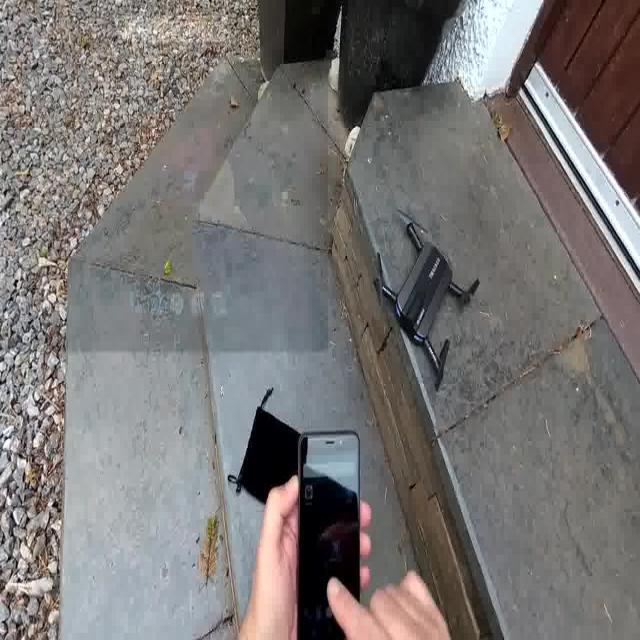drone: (372, 202, 481, 394)
